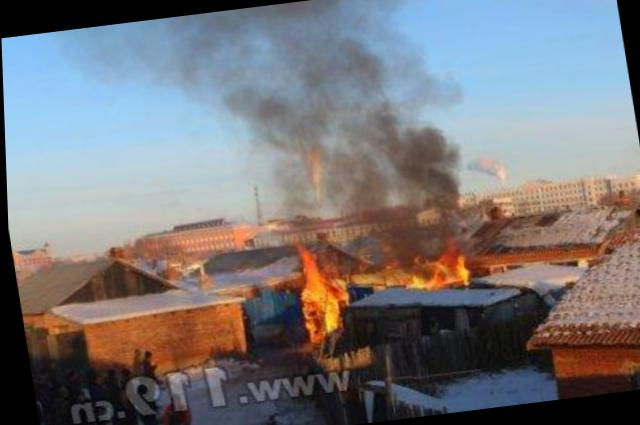fire: (302, 281, 343, 334), (428, 248, 468, 283), (299, 246, 320, 281), (407, 271, 430, 286)
